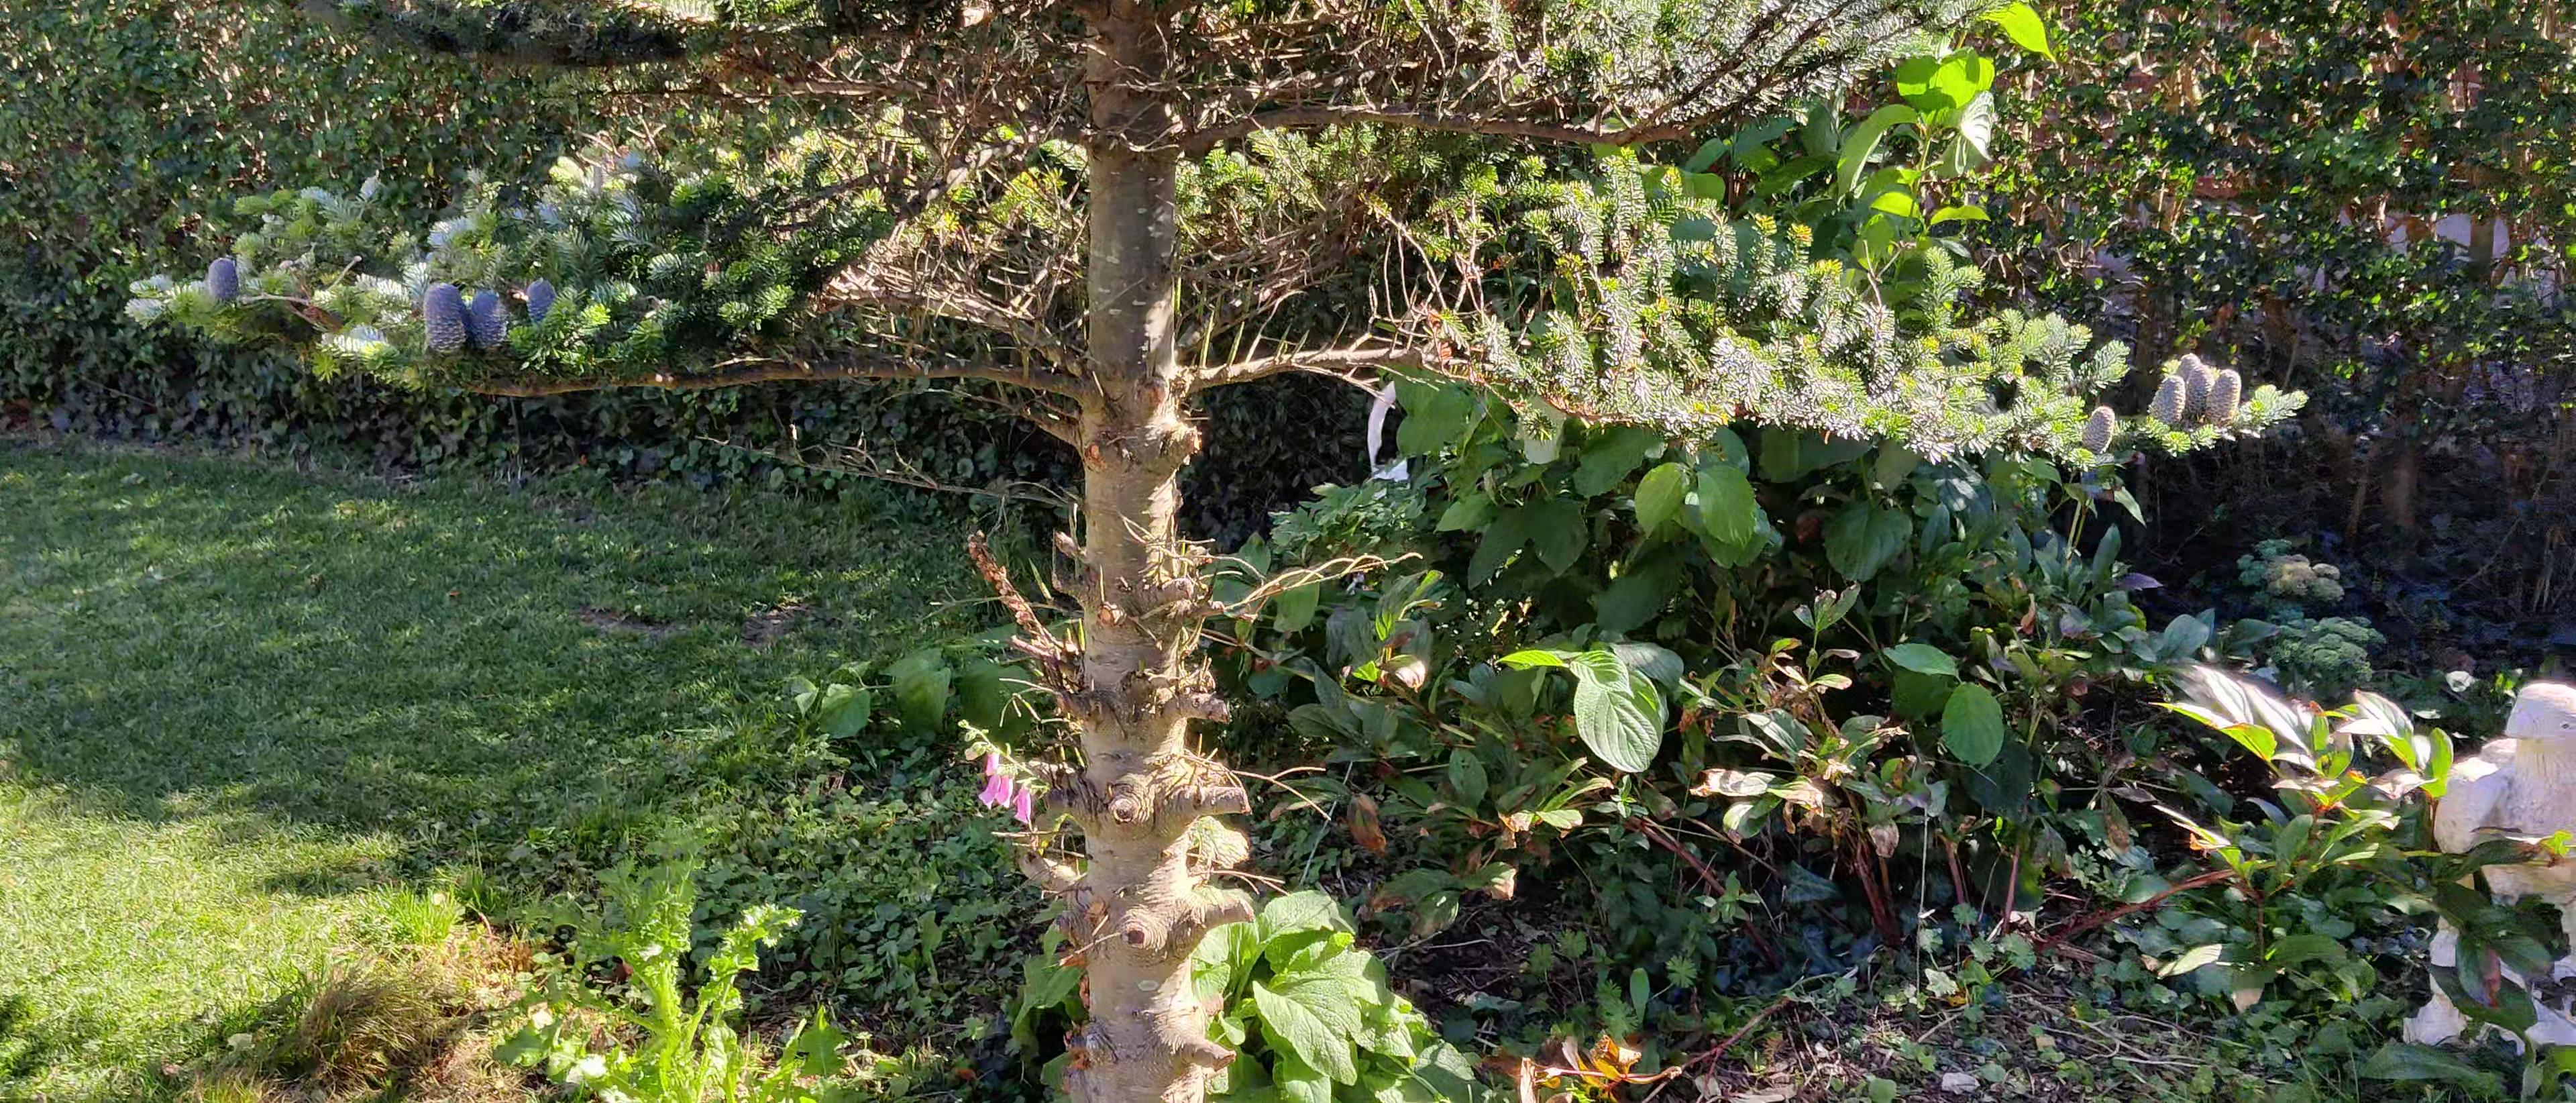Dog: (1354, 372, 1451, 496)
